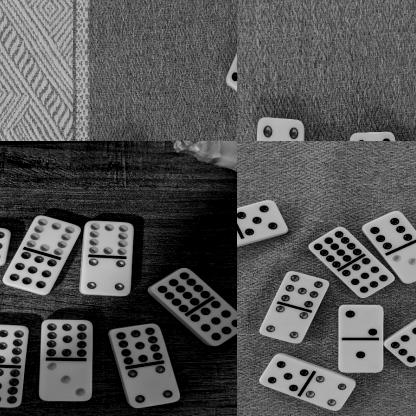pip-1: (338, 338, 384, 373)
pip-10: (27, 214, 81, 255), (84, 220, 136, 256)
pip-11: (110, 323, 165, 364), (41, 319, 93, 359), (0, 323, 30, 365), (0, 365, 26, 407)
pip-12: (150, 267, 211, 311), (309, 226, 362, 268)
pip-2: (340, 305, 384, 339)
pip-3: (40, 358, 92, 403), (393, 245, 416, 283)
pip-4: (128, 364, 182, 408), (81, 256, 132, 296), (259, 304, 310, 344), (308, 372, 356, 411), (256, 117, 304, 141)
pip-5: (238, 199, 288, 237), (260, 353, 310, 391)
pip-6: (363, 210, 414, 252), (226, 44, 237, 100)
pip-7: (281, 269, 331, 307)
pip-8: (386, 326, 416, 366)
pip-9: (4, 252, 58, 295), (190, 299, 237, 346), (342, 257, 395, 297)
